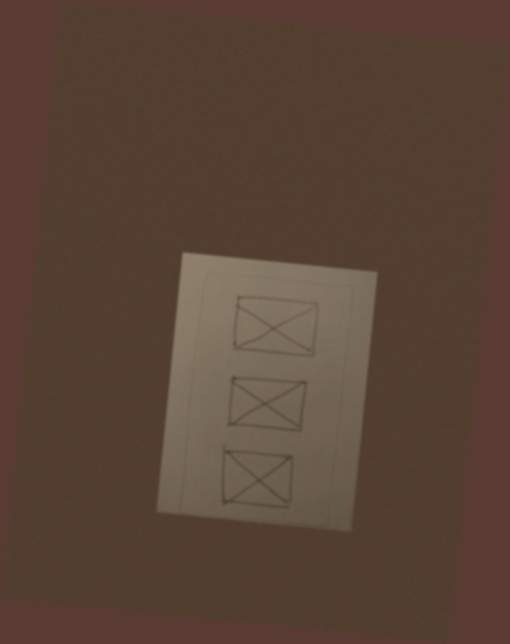image: (226, 287, 326, 364), (210, 439, 303, 516), (218, 366, 313, 439)
